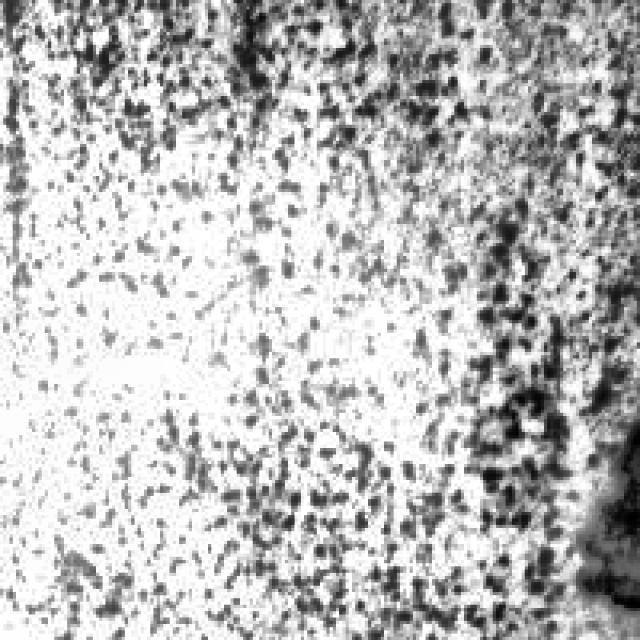Rolled_in_Scale: (0, 0, 569, 630)
Scratches: (570, 410, 636, 614)
